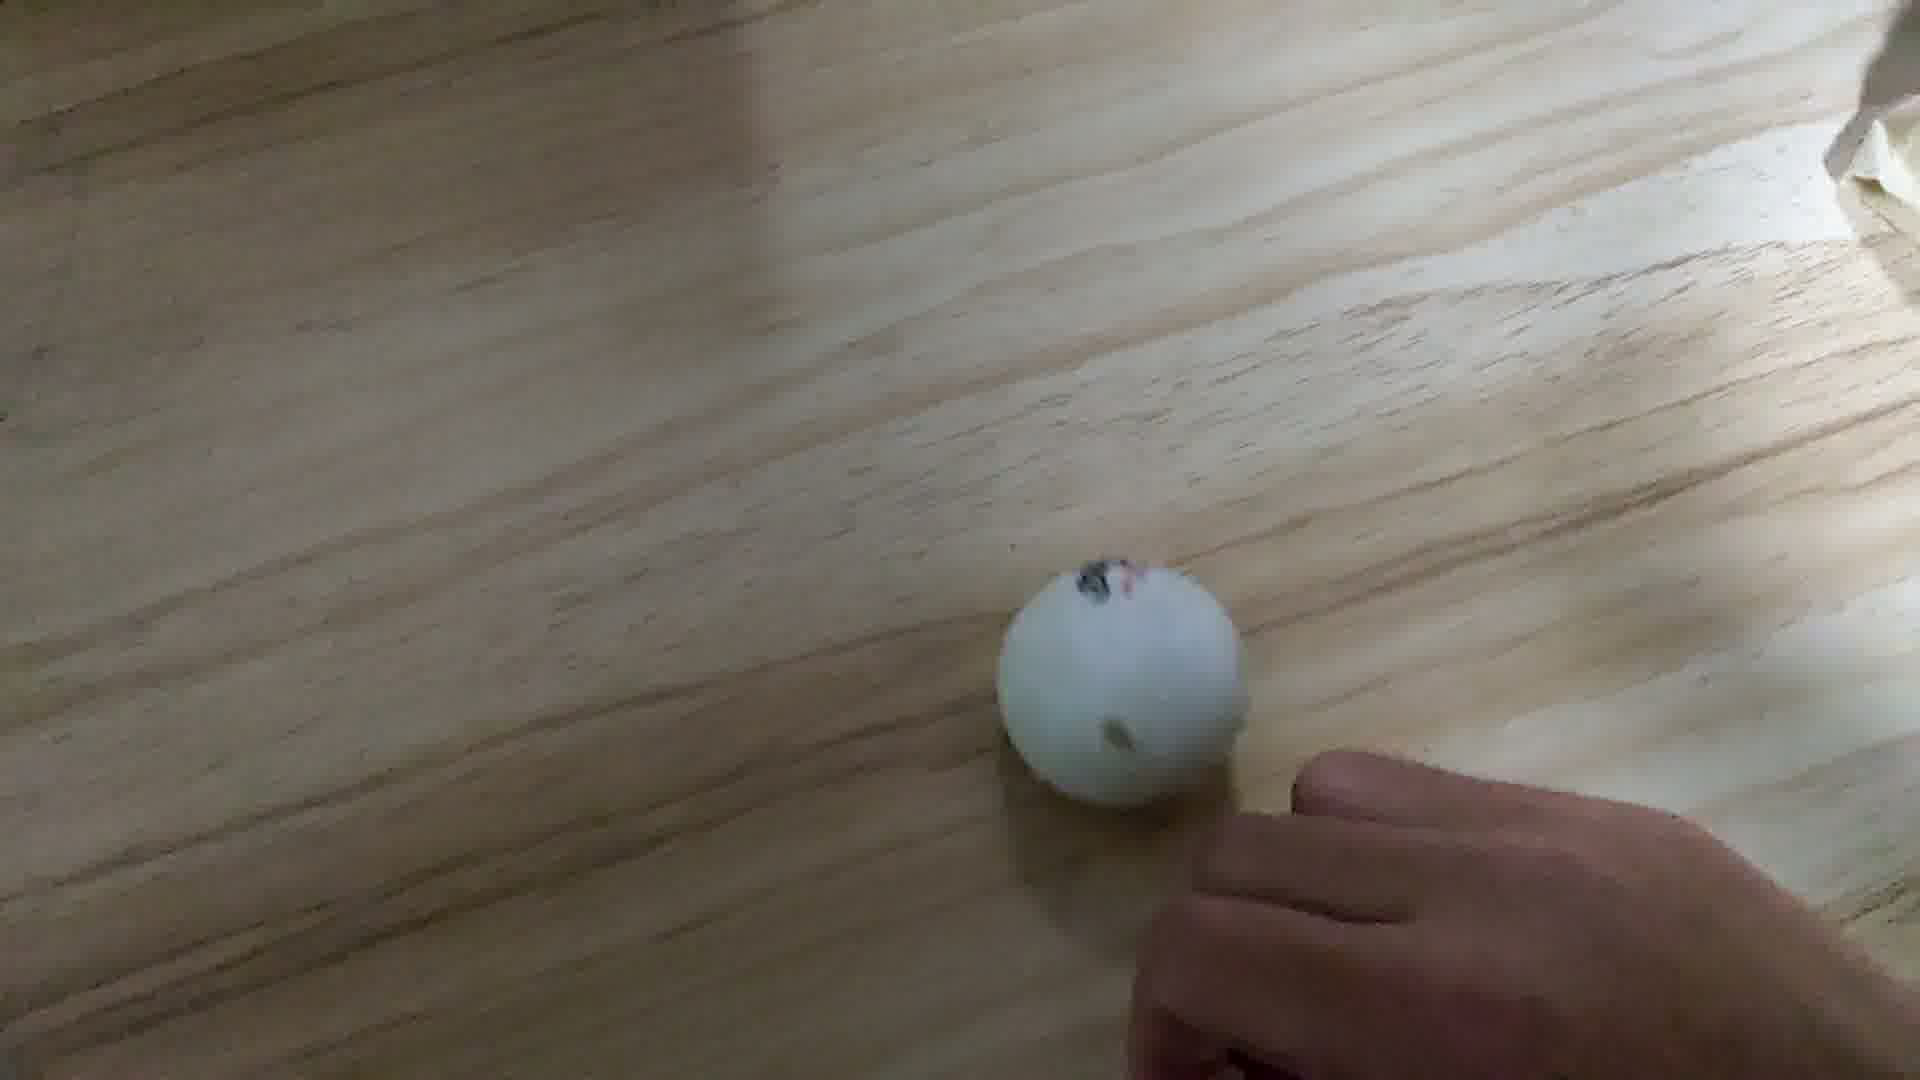Ball: (996, 558, 1254, 811)
